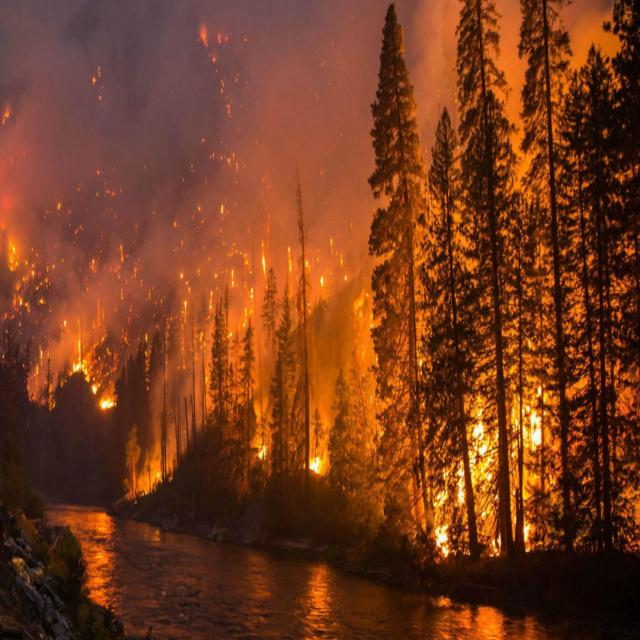Fire: (438, 390, 554, 560), (53, 354, 120, 418), (258, 434, 324, 478)
Smoke: (0, 0, 640, 366)
